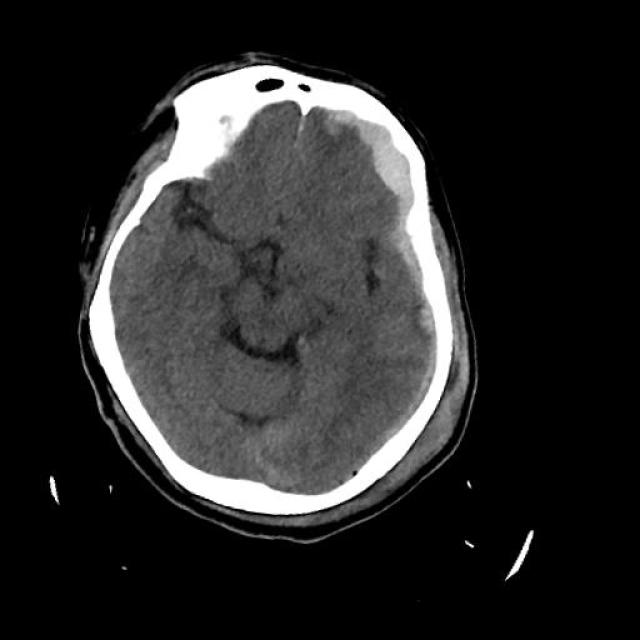Subdural: (296, 104, 496, 345)
